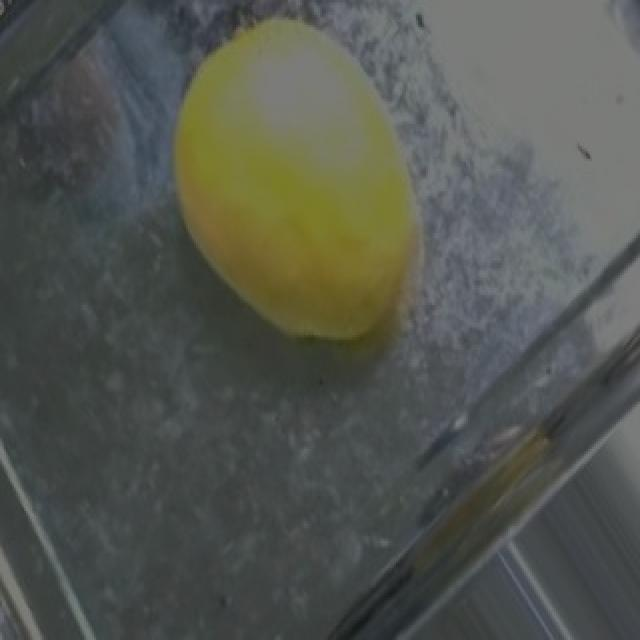fruit: (124, 0, 490, 370)
